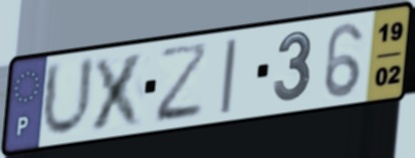3: (271, 28, 314, 107)
6: (320, 19, 364, 102)
I: (218, 35, 240, 118)
U: (39, 53, 98, 141)
X: (86, 48, 150, 134)
Z: (155, 39, 211, 127)
